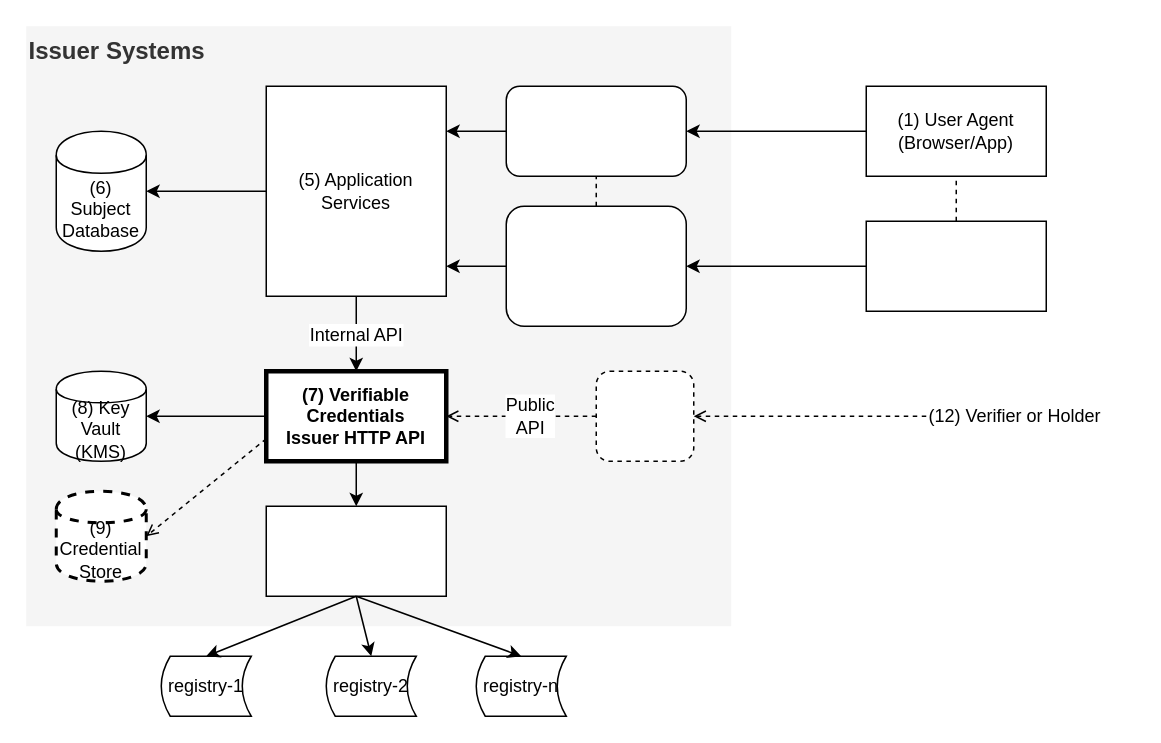
The diagram is 1161 pixels wide and 743 high, and some of its shapes have lost their labels. Here are the shapes that lost their labels. From the top down, the centre of each, then its label:
pixel 595 130: (3) Front End (UI)
pixel 595 265: (4) Holder Communication Interface (e.g. CHAPI, DIDComm, ...)
pixel 955 265: (2) Holder / Wallet
pixel 644 415: (11) Public API Gateway
pixel 355 550: (10) DID Resolver
